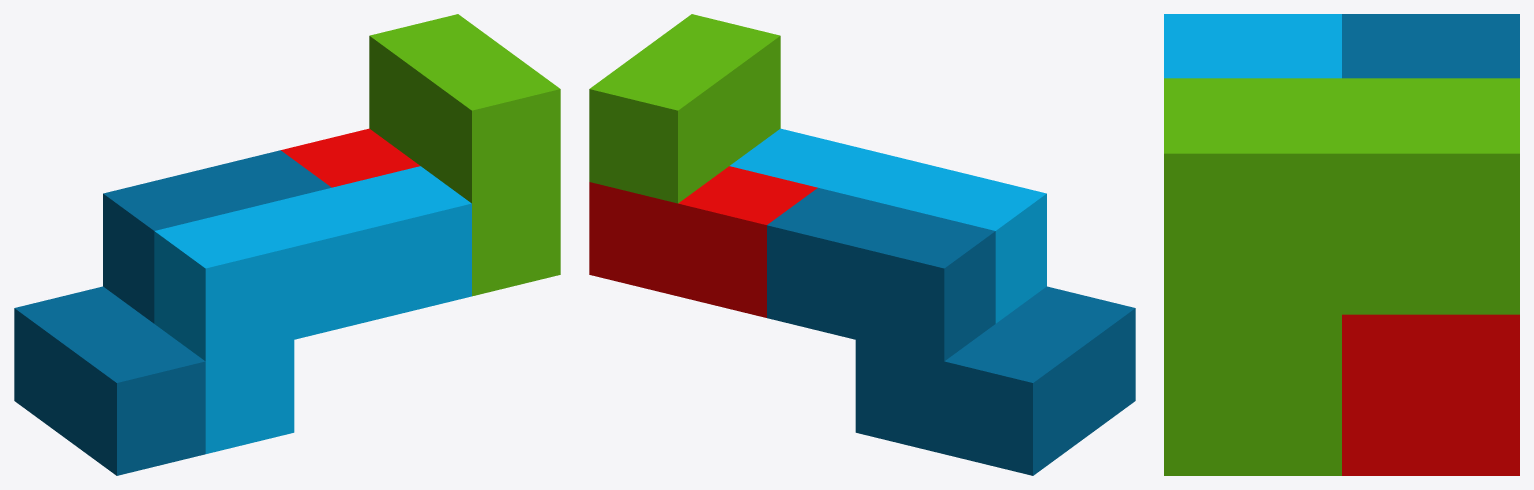
The picture shows the model from 3 angles, left to right: view 1: azimuth 30°, elevation 25°; view 2: azimuth 150°, elevation 25°; view 3: azimuth 270°, elevation 25°; orthographic projection. The views are drawn at different scales.
Parts seen in each view (by area): view 1: mergedBlocks(Clone); view 2: mergedBlocks(Clone); view 3: mergedBlocks(Clone).
Part boxes in pixels (x1,y1,x2,y2): mergedBlocks(Clone): [14, 14, 560, 475]; mergedBlocks(Clone): [589, 14, 1135, 475]; mergedBlocks(Clone): [1164, 14, 1519, 475].
Bounding box in the file's own units: 5 × 3 × 2.
Materials: 4 (4 with a texture image).
